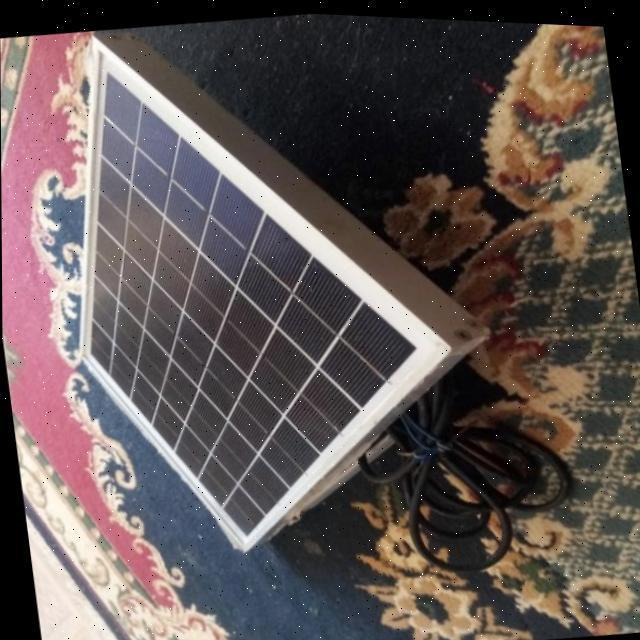Normal Solar Panel: (40, 1, 471, 572)
